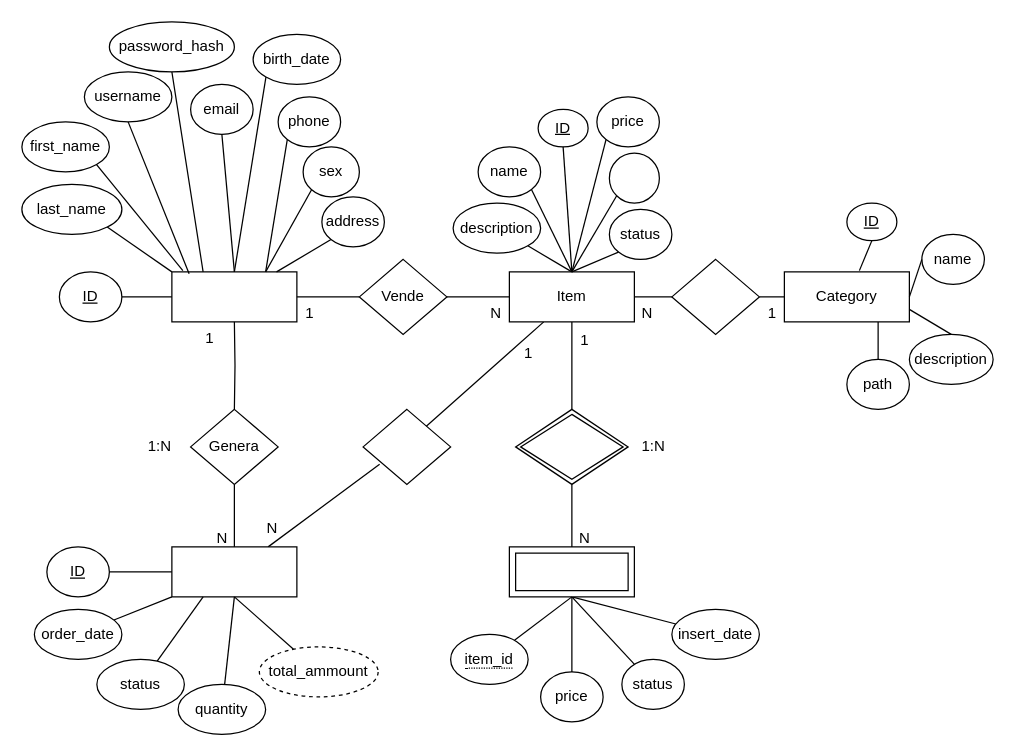
The diagram is 1015 pixels wide and 756 high, and some of its shapes have lost their labels. Each missing label, with the centre of its shape:
Customer: the point at 234,296
Customer Order: the point at 234,571
Forma Parte: the point at 406,446
Item History: the point at 571,571
Pertenece: the point at 715,296
Registra: the point at 571,446
stock: the point at 633,177
